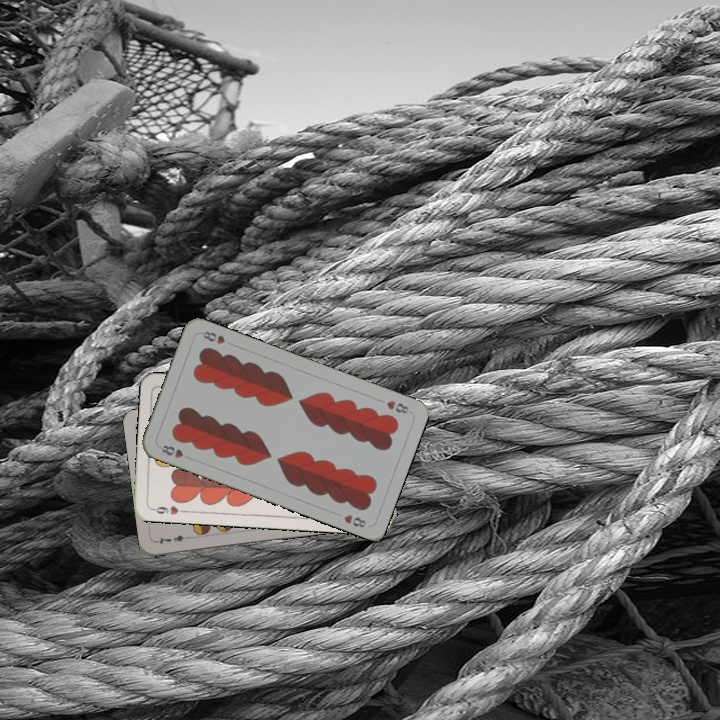E7: (153, 531, 194, 547)
H8: (157, 441, 194, 462), (382, 396, 413, 416)
H9: (148, 502, 188, 517)
